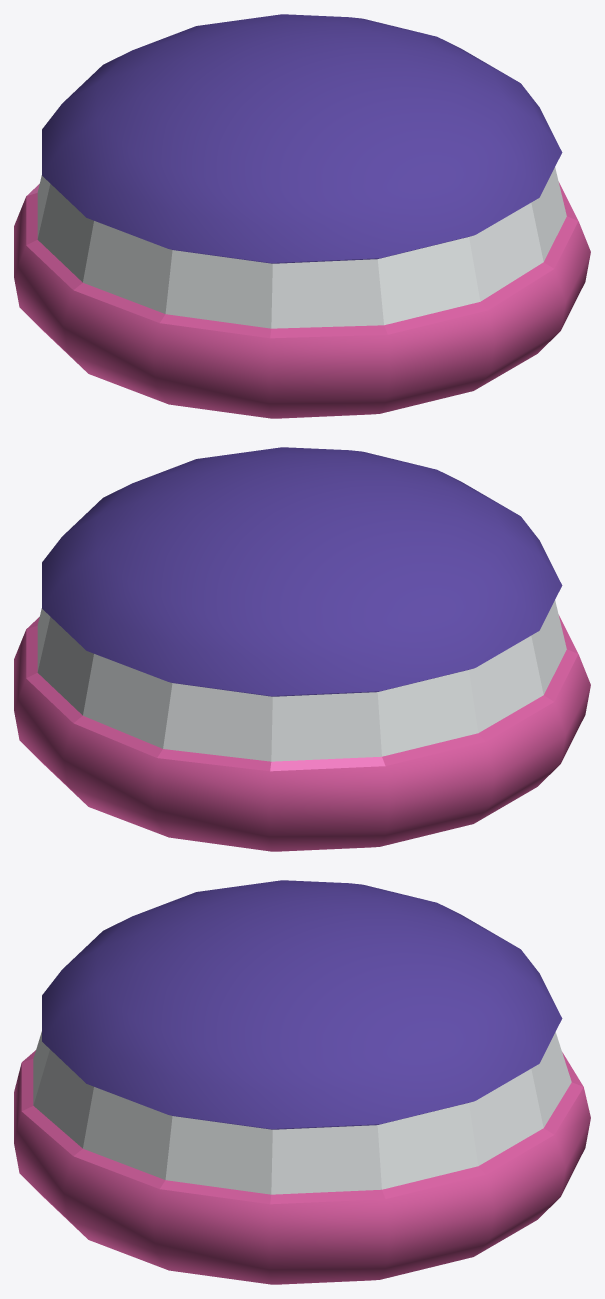
Rendered from ball.fbx.
3 renders of one model, top to bottom at view 1: azimuth 30°, elevation 25°; view 2: azimuth 150°, elevation 25°; view 3: azimuth 270°, elevation 25°, orthographic.
Parts seen in each view (by area): view 1: Sphere.001, Sphere; view 2: Sphere.001, Sphere; view 3: Sphere.001, Sphere.
Part boxes in pixels (bbox=[...]): Sphere.001: bbox=[42, 14, 562, 262]; Sphere: bbox=[14, 167, 590, 418]; Sphere.001: bbox=[42, 447, 562, 695]; Sphere: bbox=[14, 600, 590, 851]; Sphere.001: bbox=[42, 880, 562, 1128]; Sphere: bbox=[14, 1031, 590, 1284].
Bounding box in the file's own units: 139 × 70.52 × 138.
